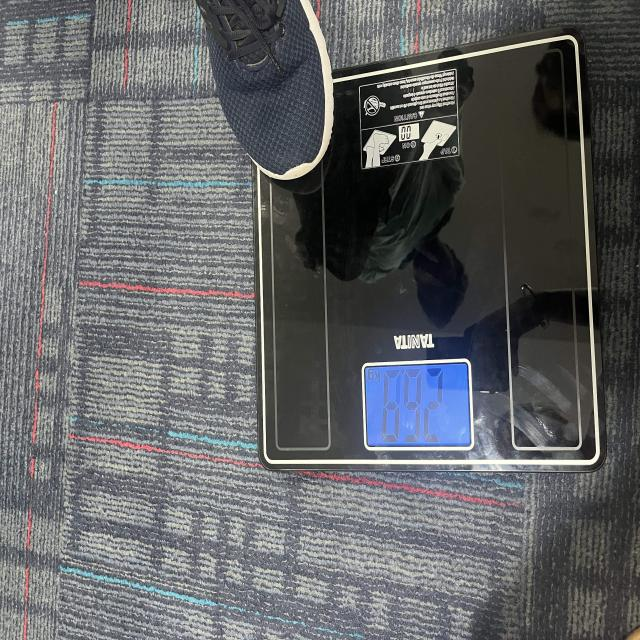ws: (361, 360, 475, 456)
